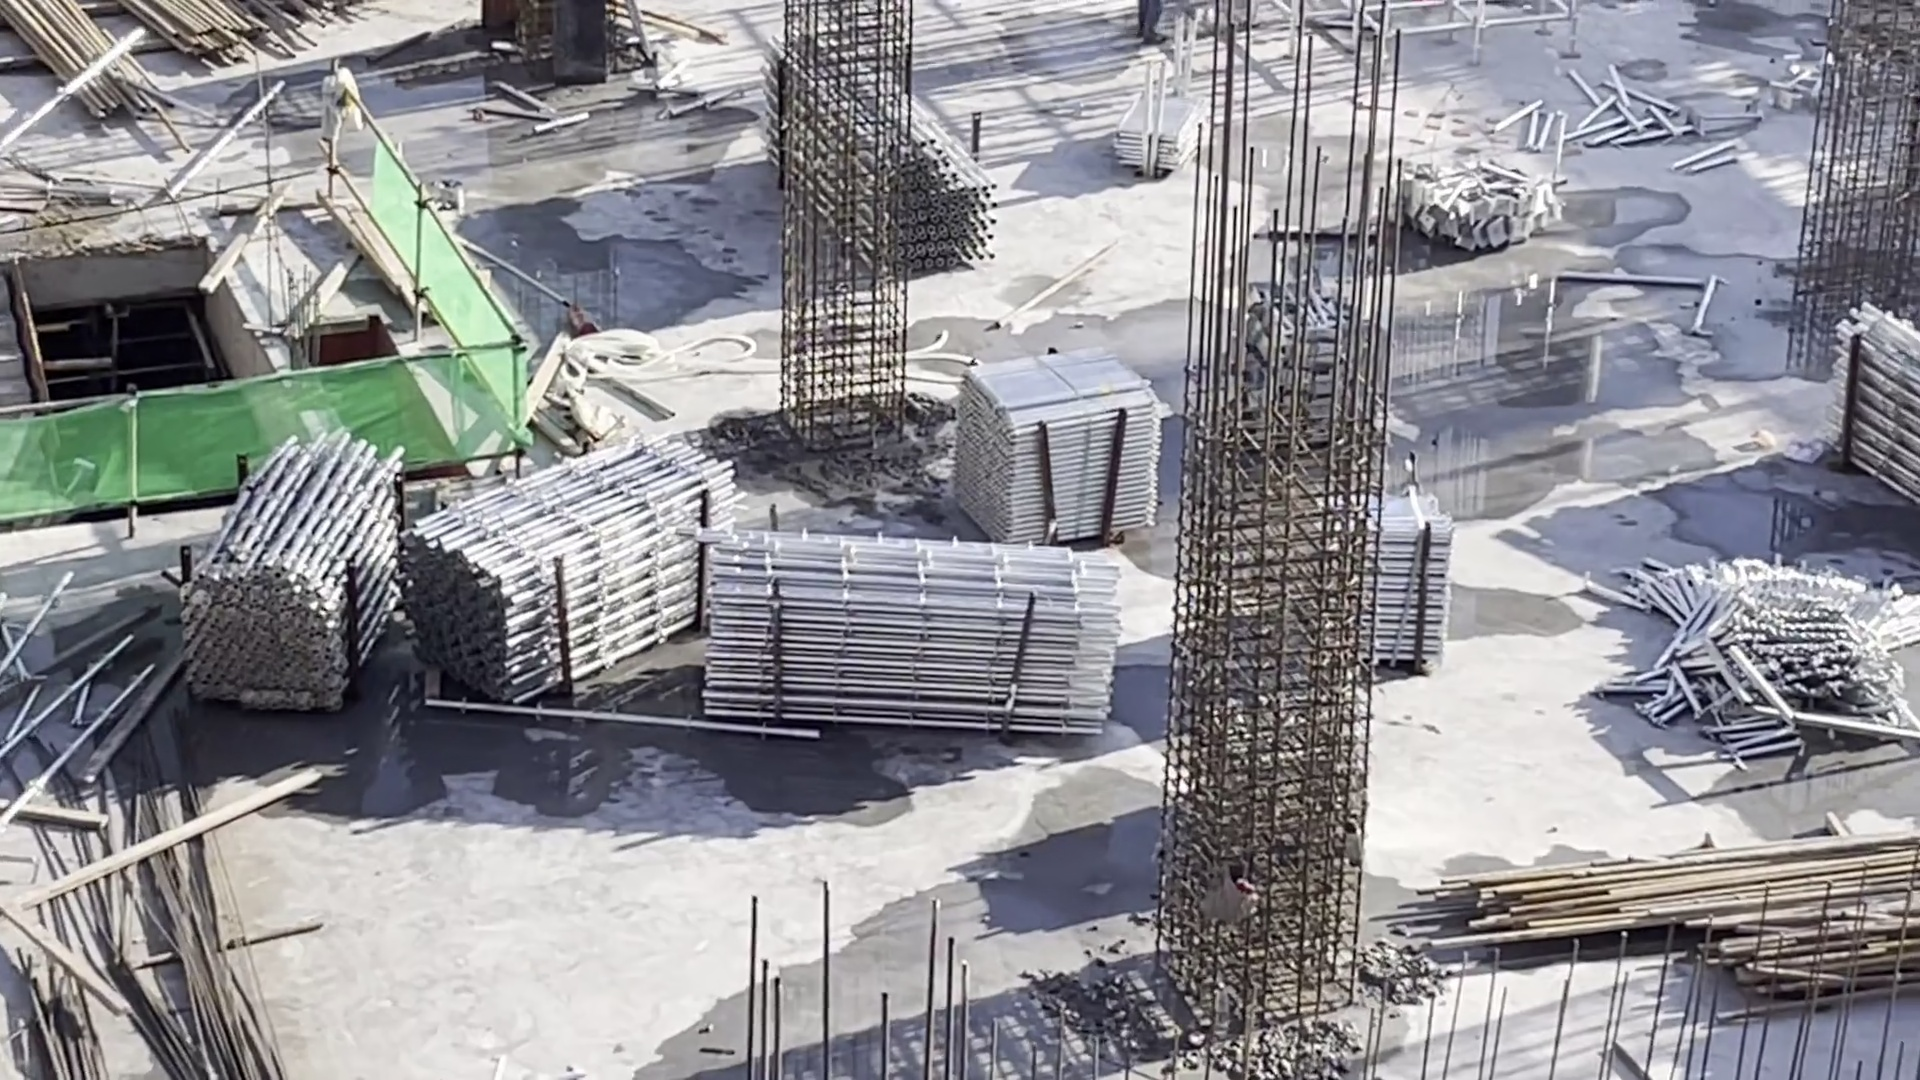person: (1133, 1, 1172, 46)
rebar: (126, 813, 293, 1080), (4, 960, 98, 1080)
scaffold: (717, 540, 1110, 733), (424, 451, 707, 665), (173, 463, 400, 705), (1654, 551, 1913, 759), (811, 71, 987, 291), (984, 373, 1145, 569), (1825, 335, 1920, 500), (1350, 508, 1447, 663), (1117, 87, 1196, 172)
